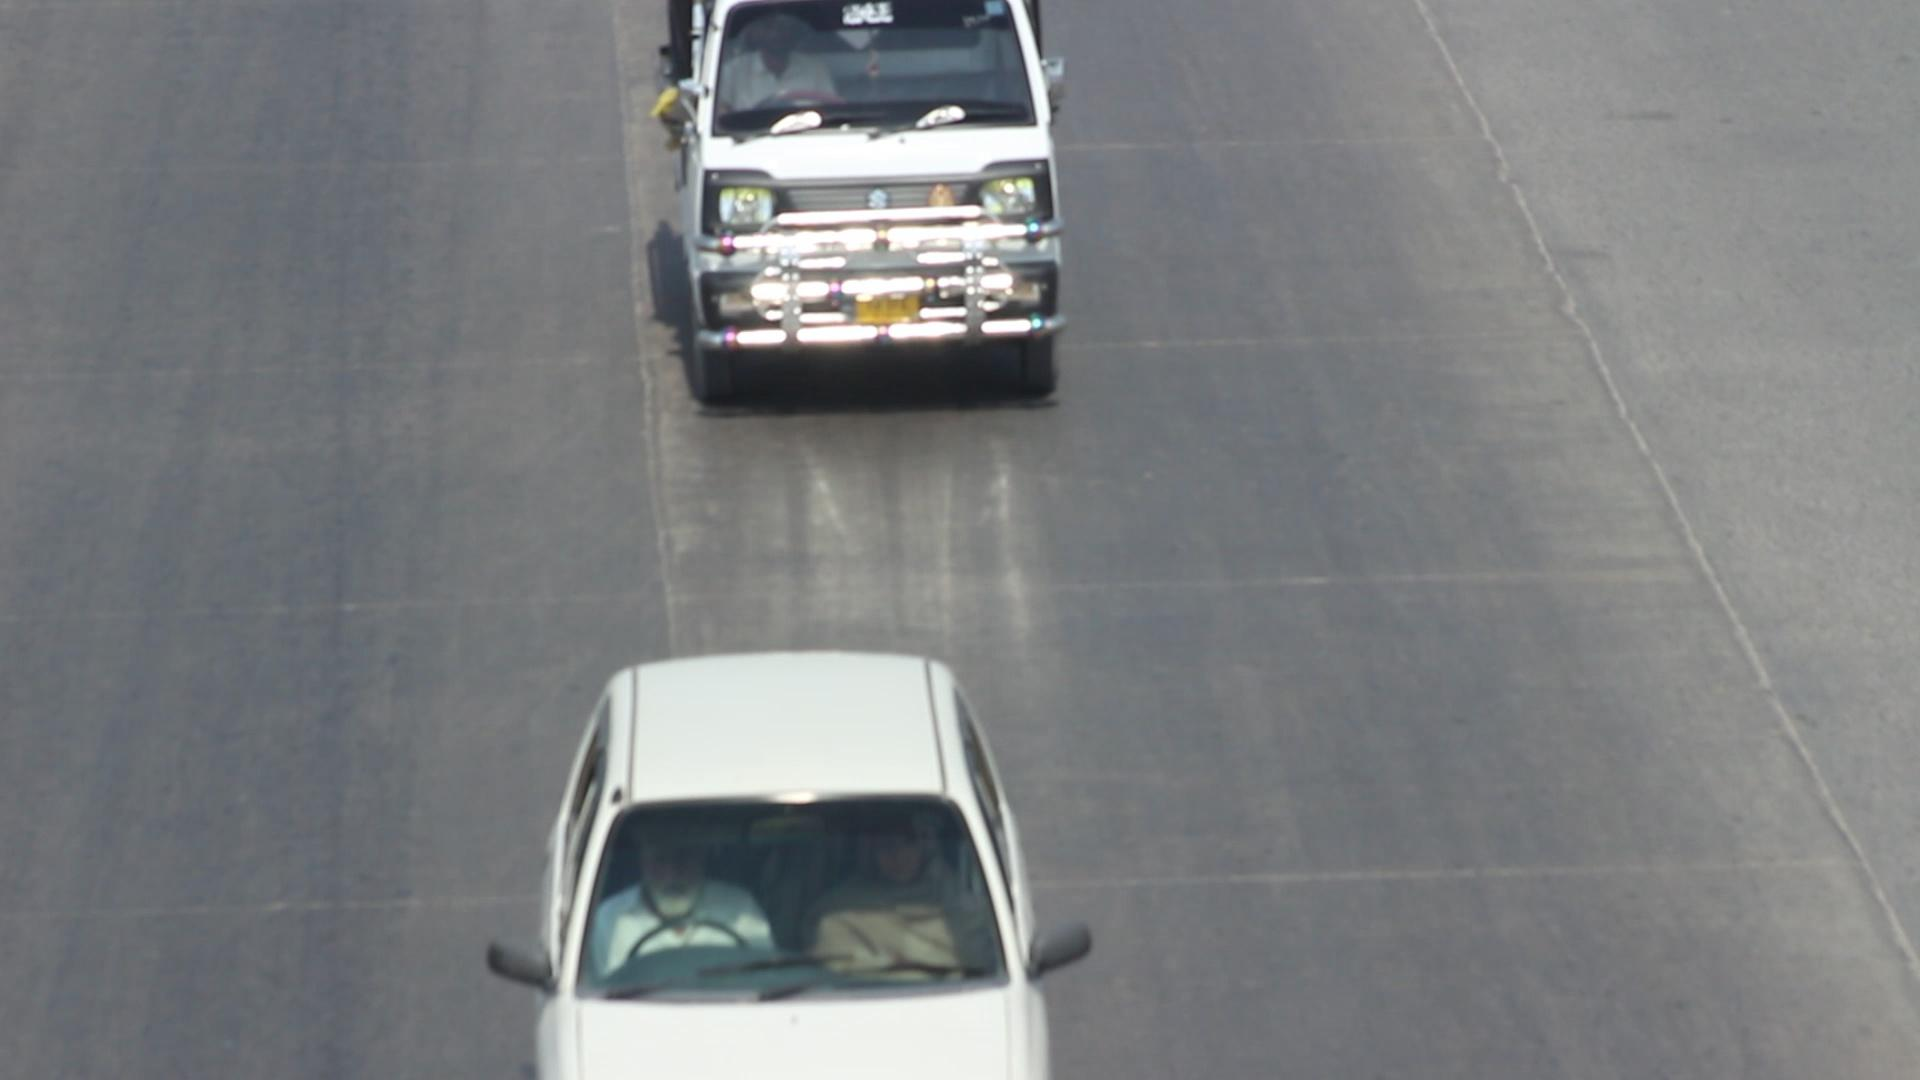windshield: (558, 760, 1027, 997)
